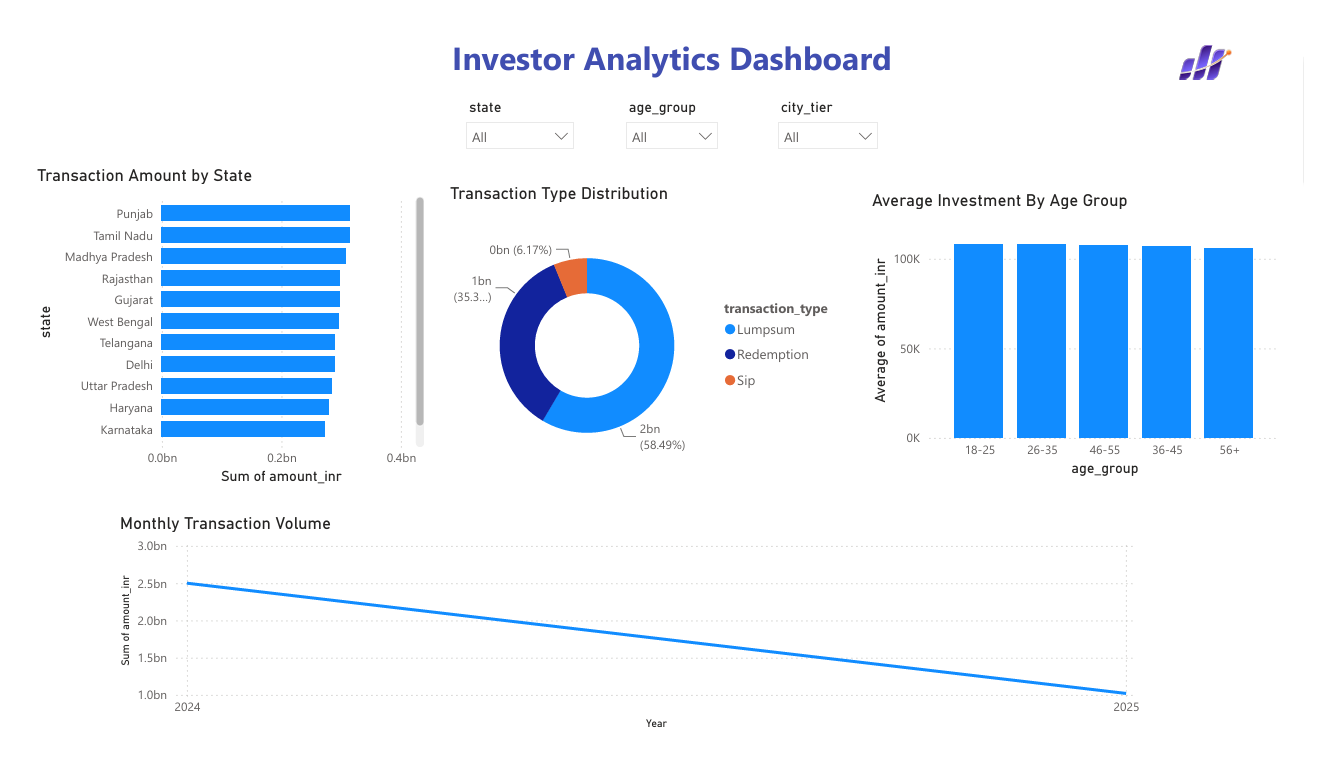

What the dashboard file says about the page in this screenshot:
{"tool":"powerbi","page":{"name":"Investor Analytics","canvas":[1280,720],"ordinal":2},"visuals":[{"type":"textbox","box":[392,8,512,64],"z":0},{"type":"clusteredBarChart","title":"Transaction Amount by State","fields":{"Category":["08_investor_transactions_clean.state"],"Y":["Sum(08_investor_transactions_clean.amount_inr)"]},"box":[7.8,143,396.8,323.9],"z":1000},{"type":"donutChart","title":"Transaction Type Distribution","fields":{"Category":["08_investor_transactions_clean.transaction_type"],"Y":["Sum(08_investor_transactions_clean.amount_inr)"]},"box":[421.2,161.5,402.7,305.4],"z":2000},{"type":"clusteredColumnChart","title":"Average Investment By Age Group","fields":{"Category":["08_investor_transactions_clean.age_group"],"Y":["Avg(08_investor_transactions_clean.amount_inr)"]},"box":[843.3,168.3,417.3,290.8],"z":3000},{"type":"lineChart","title":"Monthly Transaction Volume","fields":{"Category":["08_investor_transactions_clean.transaction_date.Variation.Date Hierarchy.Year","08_investor_transactions_clean.transaction_date.Variation.Date Hierarchy.Quarter","08_investor_transactions_clean.transaction_date.Variation.Date Hierarchy.Month","08_investor_transactions_clean.transaction_date.Variation.Date Hierarchy.Day"],"Y":["Sum(08_investor_transactions_clean.amount_inr)"]},"box":[91.4,491.2,1028.1,220.8],"z":4000},{"type":"slicer","fields":{"Values":["08_investor_transactions_clean.state"]},"box":[432,72,128,56],"z":5000},{"type":"slicer","fields":{"Values":["08_investor_transactions_clean.age_group"]},"box":[592,72,112,56],"z":6000},{"type":"slicer","fields":{"Values":["08_investor_transactions_clean.city_tier"]},"box":[744,72,120,56],"z":7000},{"type":"image","box":[1144,16,64,48],"z":8000}]}

Visuals, with their boxes in screenshot pixels (x1, y1, x2, y2), scaled from the page's 1280x720 canvas onto the 1327x763 screenshot:
textbox: l=406, t=8, r=937, b=76
"Transaction Amount by State" clusteredBarChart: l=8, t=152, r=419, b=495
"Transaction Type Distribution" donutChart: l=437, t=171, r=854, b=495
"Average Investment By Age Group" clusteredColumnChart: l=874, t=178, r=1307, b=487
"Monthly Transaction Volume" lineChart: l=95, t=521, r=1161, b=755
slicer - 08_investor_transactions_clean.state: l=448, t=76, r=581, b=136
slicer - 08_investor_transactions_clean.age_group: l=614, t=76, r=730, b=136
slicer - 08_investor_transactions_clean.city_tier: l=771, t=76, r=896, b=136
image: l=1186, t=17, r=1252, b=68
